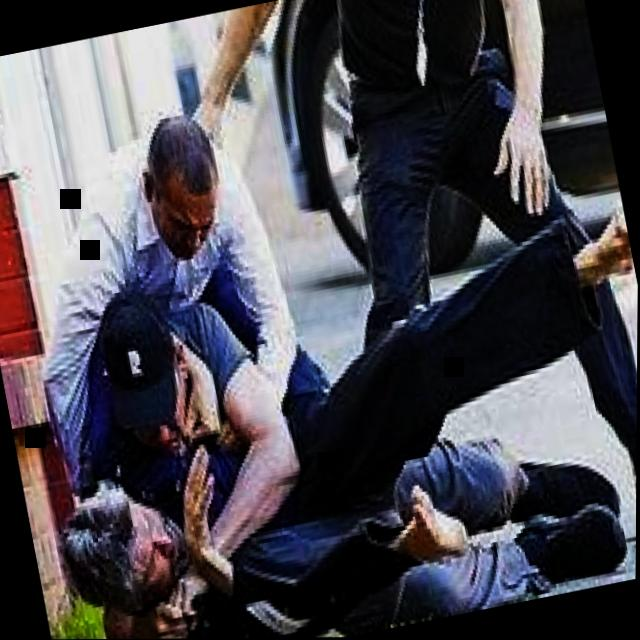Fall-Detected: (30, 174, 639, 640)
